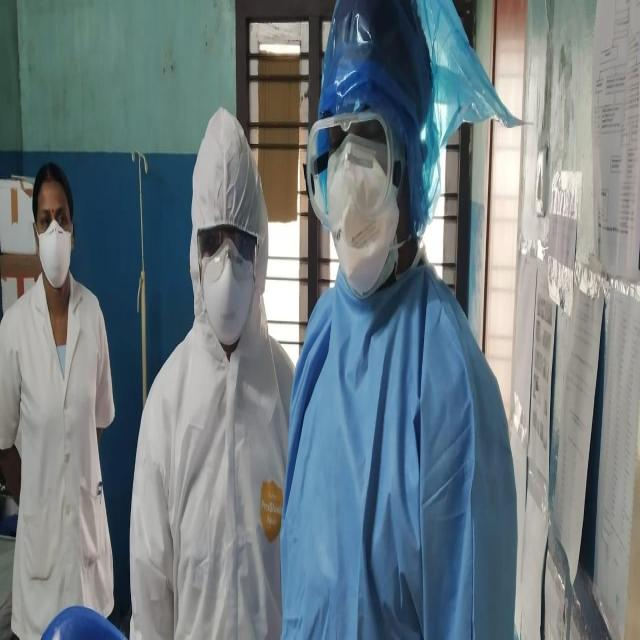Goggles: (305, 107, 391, 220), (198, 228, 256, 281)
Mask: (328, 150, 398, 296), (201, 239, 255, 345), (33, 222, 74, 297)
